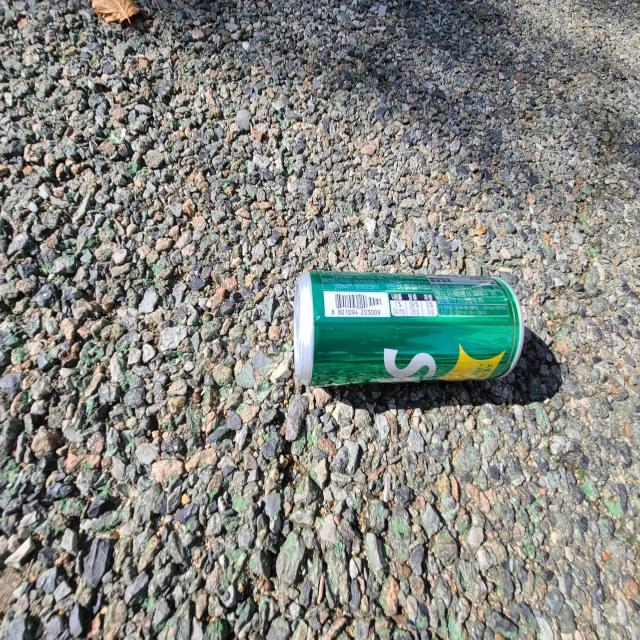can: (294, 271, 525, 386)
